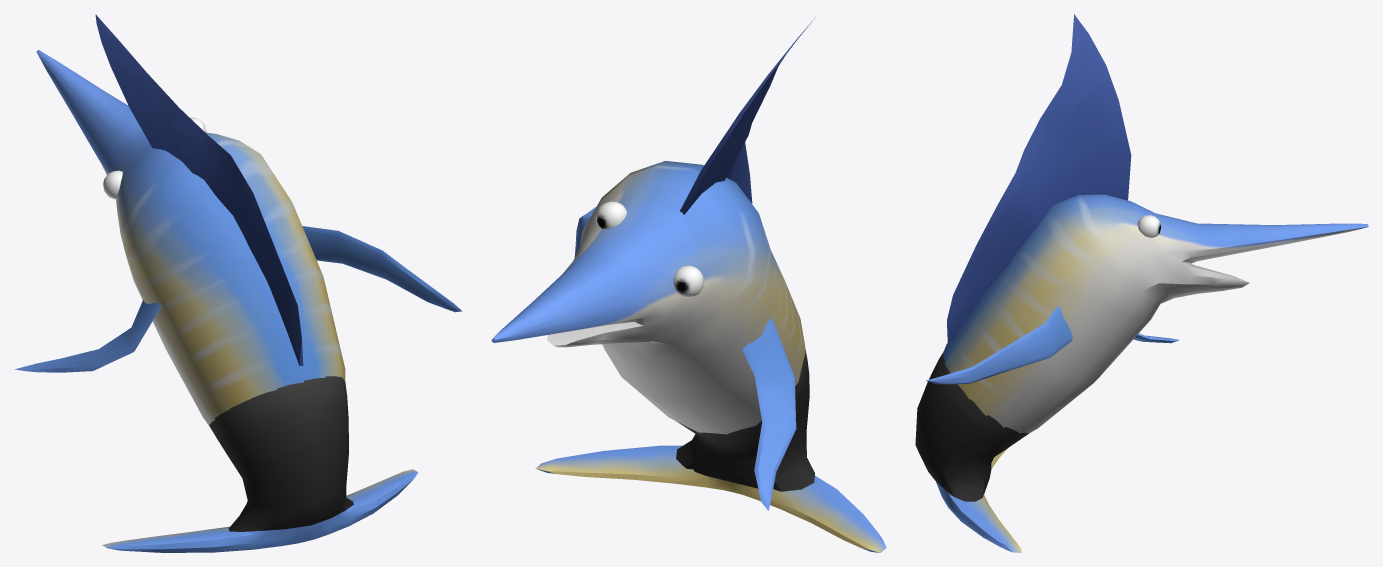
Rendered from kajiki_walk_a_01.fbx.
3 views of the same model, side by side, from view 1: azimuth 30°, elevation 25°; view 2: azimuth 150°, elevation 25°; view 3: azimuth 270°, elevation 25° (orthographic). The views are drawn at different scales.
Parts seen in each view (by area): view 1: w_a_01; view 2: w_a_01; view 3: w_a_01.
Part boxes in pixels (x1=…): w_a_01: x1=15, y1=14, x2=462, y2=552; w_a_01: x1=491, y1=17, x2=886, y2=552; w_a_01: x1=915, y1=14, x2=1368, y2=552.
Size of the model in its own units: 1.46 by 2.27 by 2.19.
Materials: 1 (1 with a texture image).
